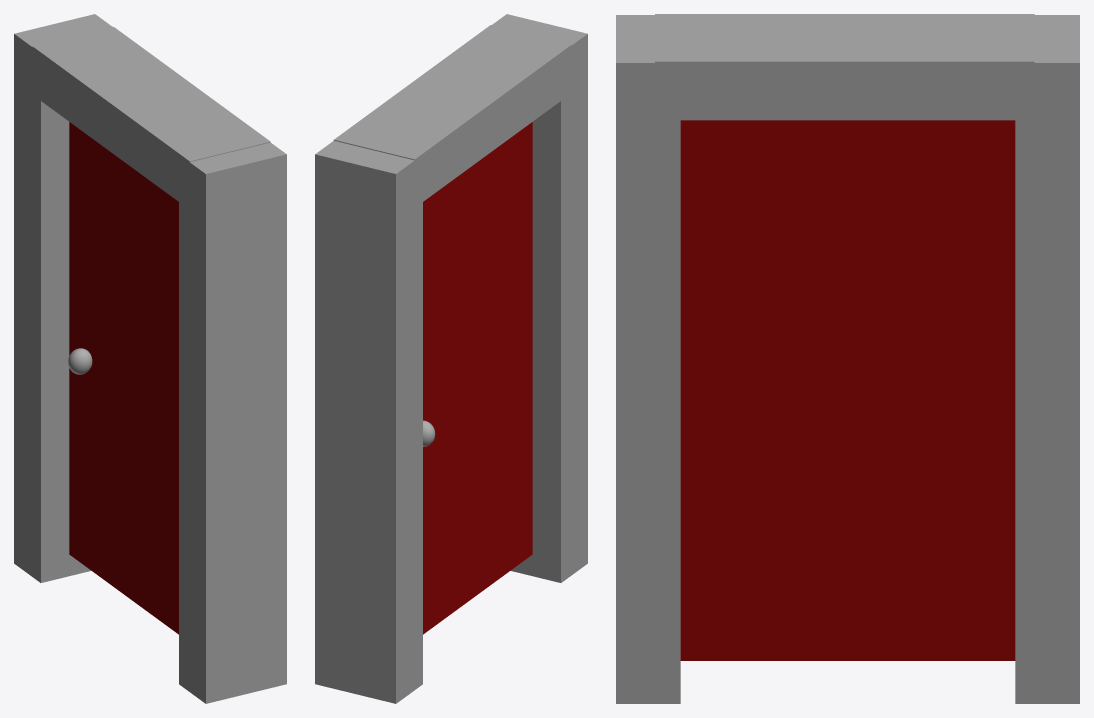
Rendered from door.fbx.
The picture shows the model from 3 angles, left to right: view 1: azimuth 30°, elevation 25°; view 2: azimuth 150°, elevation 25°; view 3: azimuth 270°, elevation 25°; orthographic projection. The views are drawn at different scales.
Parts seen in each view (by area): view 1: pasted__pCube2, pCube1, pCube2, pasted__pasted__pCube2, pSphere1; view 2: pCube2, pCube1, pasted__pCube2, pasted__pasted__pCube2; view 3: pCube1, pCube2, pasted__pCube2, pasted__pasted__pCube2.
Boxes of the visible parts, box(x1,y1,x2,y2) form: pasted__pCube2: box(179, 142, 286, 703); pCube1: box(69, 122, 178, 634); pCube2: box(14, 14, 112, 582); pasted__pasted__pCube2: box(32, 27, 270, 209); pSphere1: box(68, 348, 92, 374); pCube2: box(315, 141, 422, 703); pCube1: box(423, 122, 532, 634); pasted__pCube2: box(492, 14, 587, 582); pasted__pasted__pCube2: box(333, 25, 571, 206); pCube1: box(680, 120, 1015, 660); pCube2: box(1015, 15, 1079, 703); pasted__pCube2: box(616, 15, 680, 703); pasted__pasted__pCube2: box(655, 14, 1034, 120).
Size of the model in its own units: 1.75 by 10.95 by 7.17.
